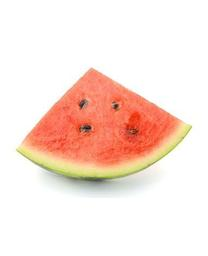watermelon: (20, 67, 192, 184)
